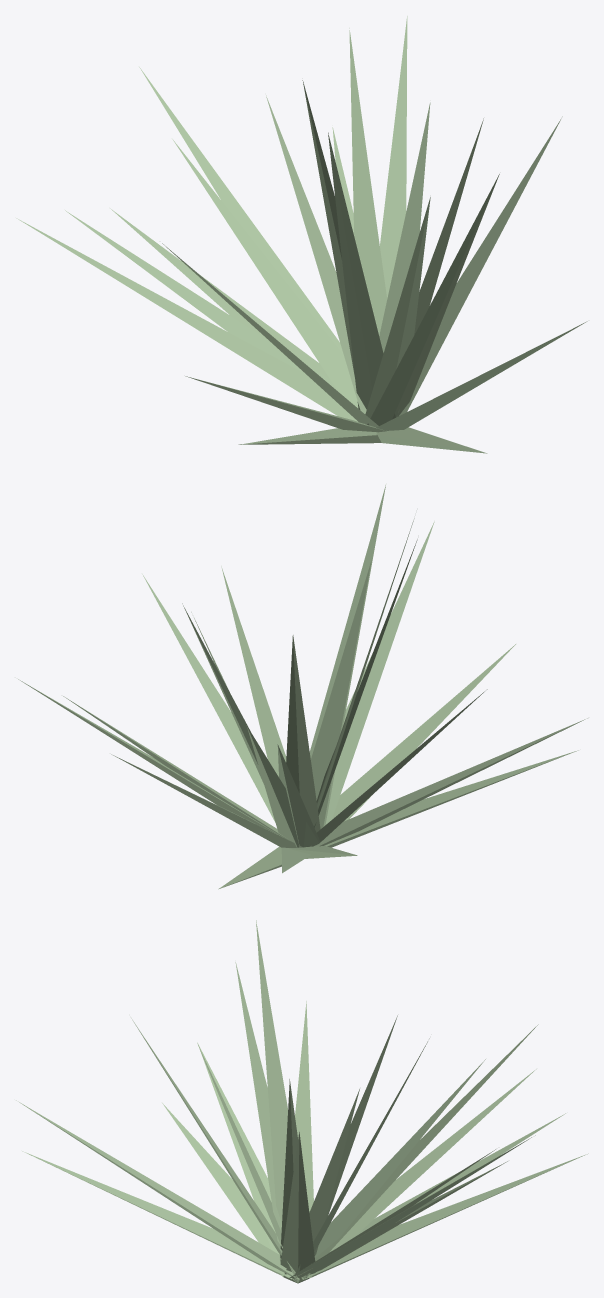
File: yucca_s.glb
The picture shows the model from 3 angles, top to bottom: view 1: azimuth 30°, elevation 25°; view 2: azimuth 150°, elevation 25°; view 3: azimuth 270°, elevation 25°; orthographic projection. The views are drawn at different scales.
Parts seen in each view (by area): view 1: yucca_s_yucca; view 2: yucca_s_yucca; view 3: yucca_s_yucca.
Boxes of the visible parts, x1=… form: yucca_s_yucca: x1=16, y1=16, x2=587, y2=453; yucca_s_yucca: x1=18, y1=485, x2=587, y2=889; yucca_s_yucca: x1=16, y1=920, x2=588, y2=1283.
Size of the model in its own units: 0.6541 by 0.5762 by 0.9272.
